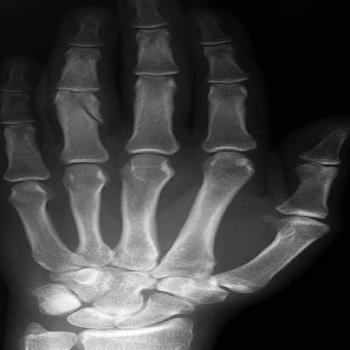Fracture: (62, 92, 108, 123)
